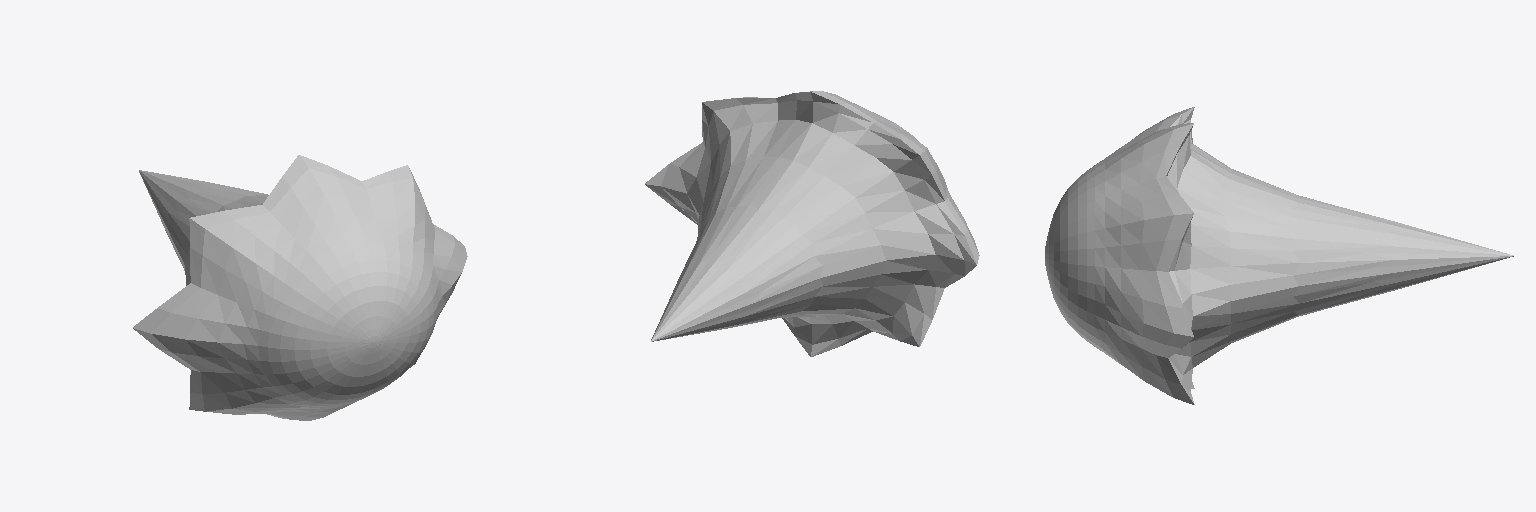
The model's file is ProjectileNOUV.obj.
3 views of the same model, side by side, from view 1: azimuth 30°, elevation 25°; view 2: azimuth 150°, elevation 25°; view 3: azimuth 270°, elevation 25° (orthographic).
Parts seen in each view (by area): view 1: Cylinder001; view 2: Cylinder001; view 3: Cylinder001.
Part boxes in pixels (left/top/right/bottom): Cylinder001: left=133, top=155, right=467, bottom=420; Cylinder001: left=645, top=91, right=979, bottom=356; Cylinder001: left=1045, top=107, right=1513, bottom=404.
Size of the model in its own units: 81.7 by 62.28 by 100.